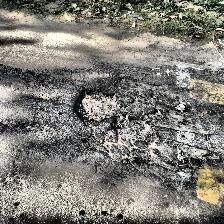pothole: (72, 88, 122, 122), (111, 118, 159, 144)
